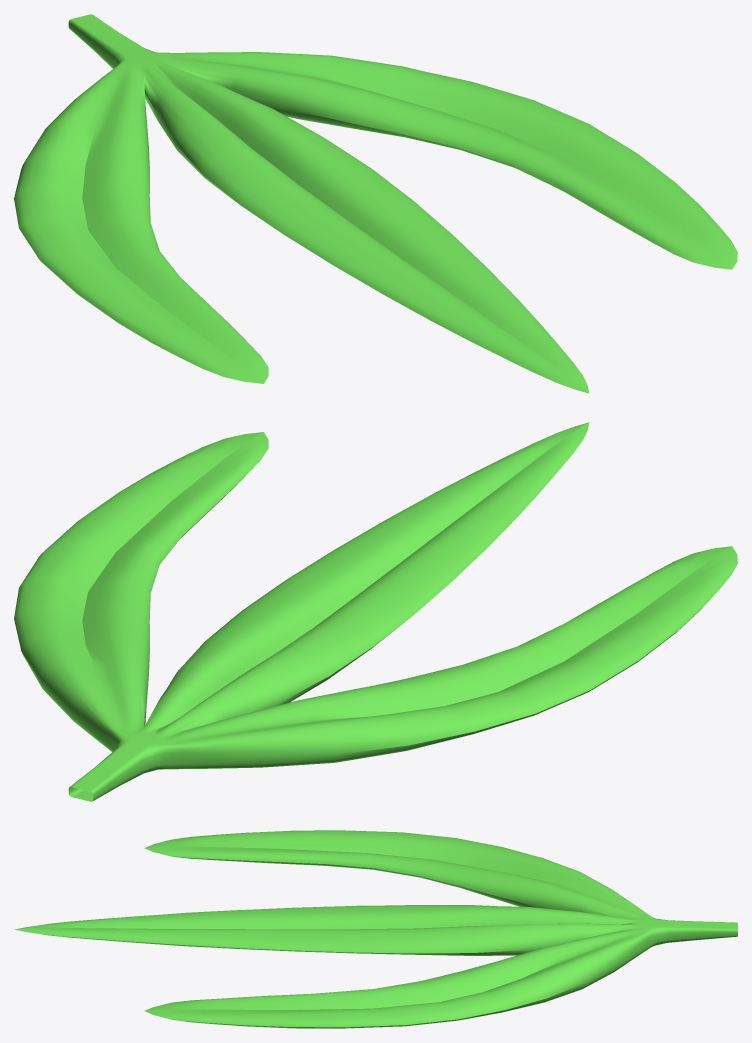
The model's file is Triple.fbx.
The picture shows the model from 3 angles, top to bottom: view 1: azimuth 30°, elevation 25°; view 2: azimuth 150°, elevation 25°; view 3: azimuth 270°, elevation 25°; orthographic projection. The views are drawn at different scales.
Parts seen in each view (by area): view 1: Triple; view 2: Triple; view 3: Triple.
Part boxes in pixels (x1,y1,x2,y2): Triple: (14,14,737,393); Triple: (14,422,737,801); Triple: (15,830,737,1028).
Size of the model in its own units: 286 by 447 by 17.2.
